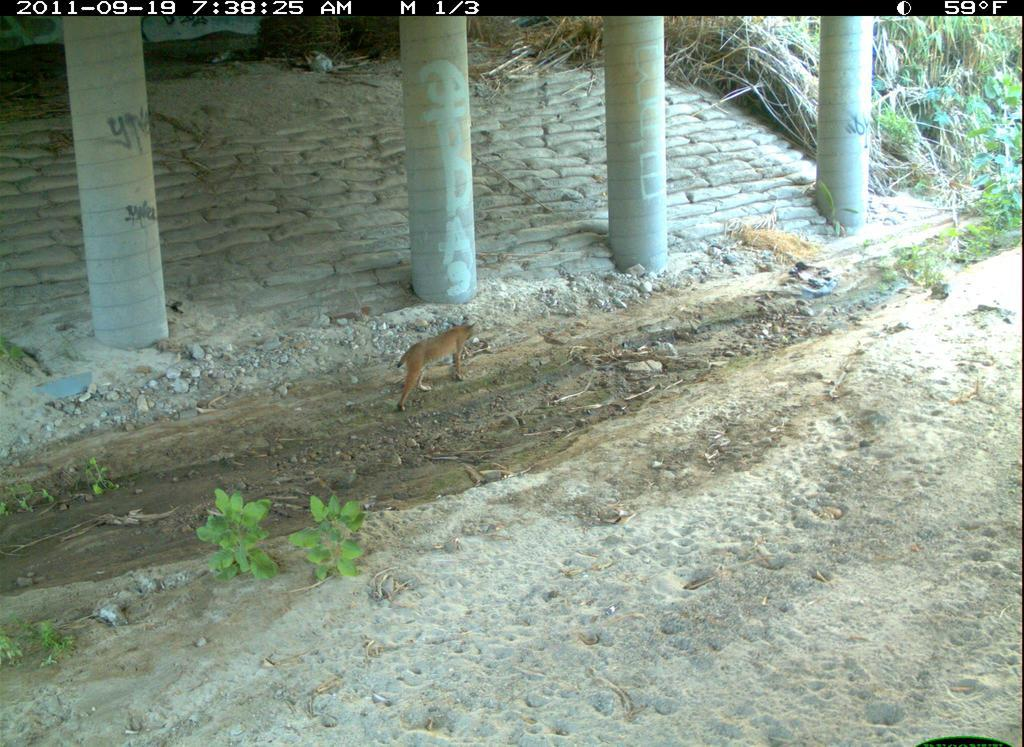bobcat: (785, 624, 973, 747)
